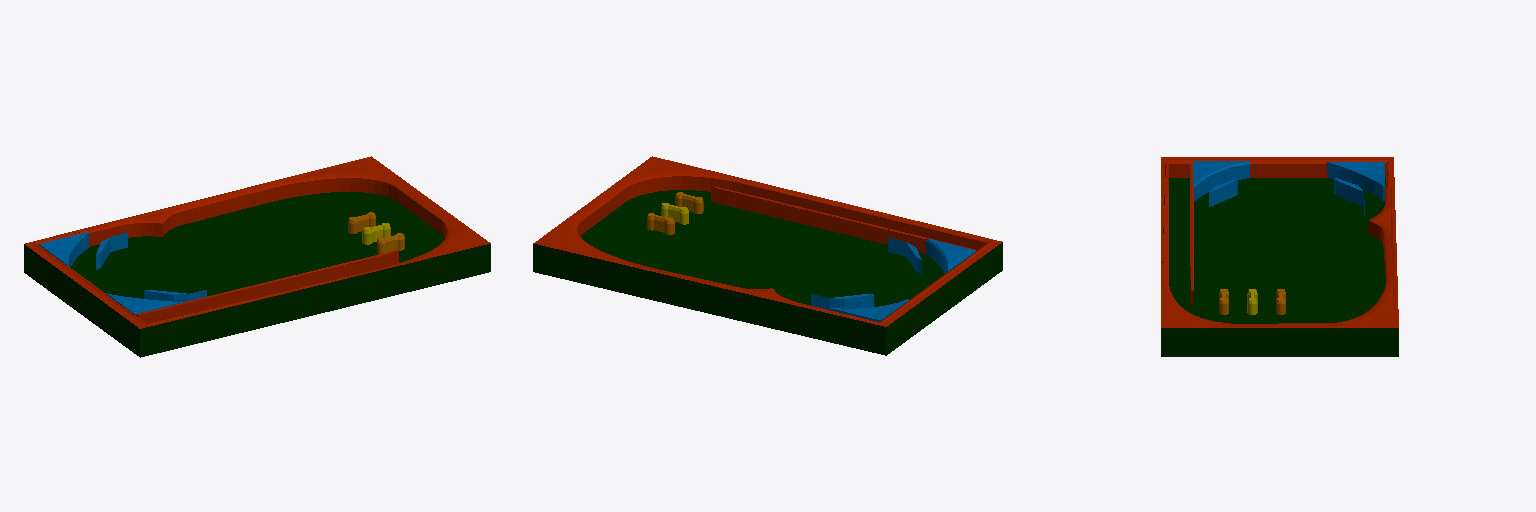
File: testTable.obj
The picture shows the model from 3 angles: view 1: azimuth 30°, elevation 25°; view 2: azimuth 150°, elevation 25°; view 3: azimuth 270°, elevation 25°; orthographic projection.
Visible parts, largest first — view 1: Board_Cube.000, Right_Cube.001_Right_Cube.002, Right_Cube.000, leftdivider_Cube.001, rightdivider_Cube.000; view 2: Board_Cube.000, Right_Cube.000, leftdivider_Cube.001, Right_Cube.001_Right_Cube.002, rightdivider_Cube.000; view 3: Board_Cube.000, Right_Cube.001_Right_Cube.002, Right_Cube.000, leftdivider_Cube.001.
Part boxes in pixels (x1,y1,x2,y2): Board_Cube.000: (24, 156, 490, 357); Right_Cube.001_Right_Cube.002: (39, 232, 88, 267); Right_Cube.000: (106, 293, 183, 314); leftdivider_Cube.001: (96, 232, 127, 269); rightdivider_Cube.000: (144, 290, 206, 301); Board_Cube.000: (533, 156, 1002, 355); Right_Cube.000: (926, 239, 975, 273); leftdivider_Cube.001: (811, 294, 873, 309); Right_Cube.001_Right_Cube.002: (831, 299, 908, 321); rightdivider_Cube.000: (888, 237, 921, 274); Board_Cube.000: (1161, 157, 1398, 356); Right_Cube.001_Right_Cube.002: (1327, 162, 1384, 200); Right_Cube.000: (1193, 161, 1249, 200); leftdivider_Cube.001: (1334, 178, 1364, 214).
Size of the model in its own units: 28.4 by 2.37 by 16.7.